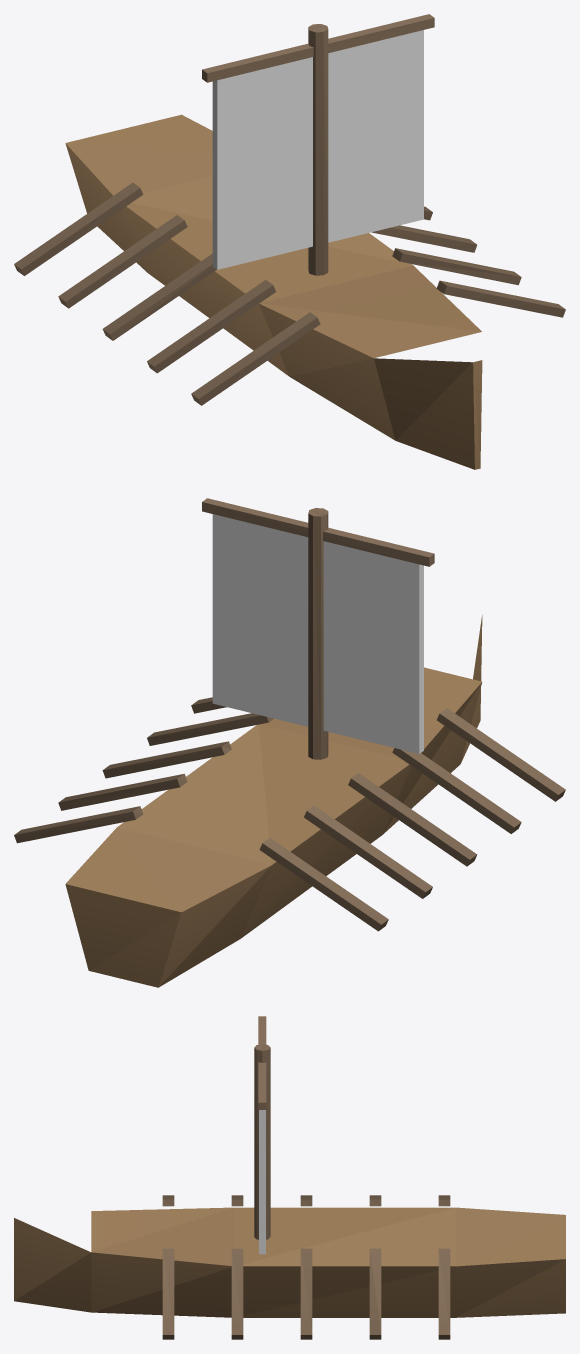
The model's file is Galley.glb.
3 renders of one model, top to bottom at view 1: azimuth 30°, elevation 25°; view 2: azimuth 150°, elevation 25°; view 3: azimuth 270°, elevation 25°, orthographic. The views are drawn at different scales.
Parts seen in each view (by area): view 1: Body; view 2: Body; view 3: Body.
Part boxes in pixels (left/top/right/bottom): Body: left=14, top=14, right=565, bottom=469; Body: left=14, top=498, right=565, bottom=987; Body: left=14, top=1016, right=565, bottom=1339.
Size of the model in its own units: 0.5689 by 0.48 by 0.95.
